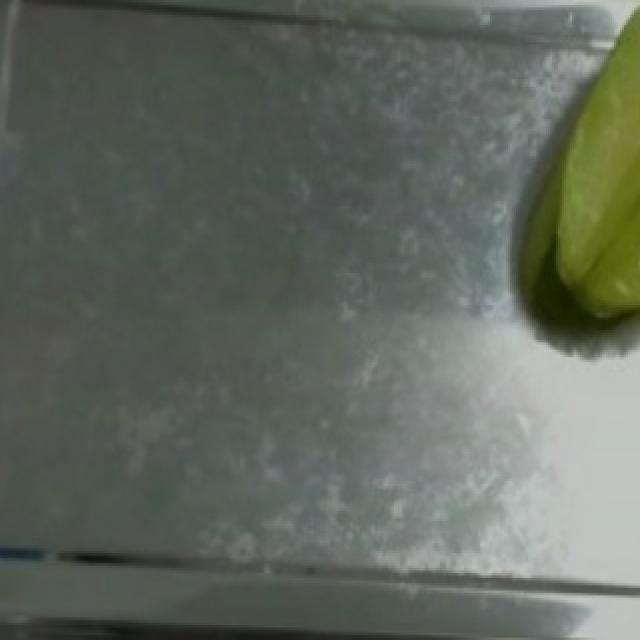fruit: (526, 0, 640, 342)
